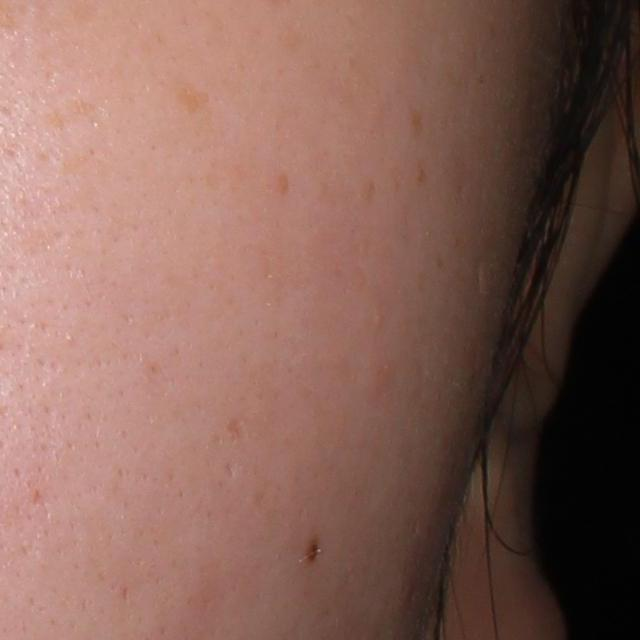atrophic_scar: (224, 417, 248, 448)
melasma: (173, 83, 211, 113)
nevus: (299, 536, 320, 570)
